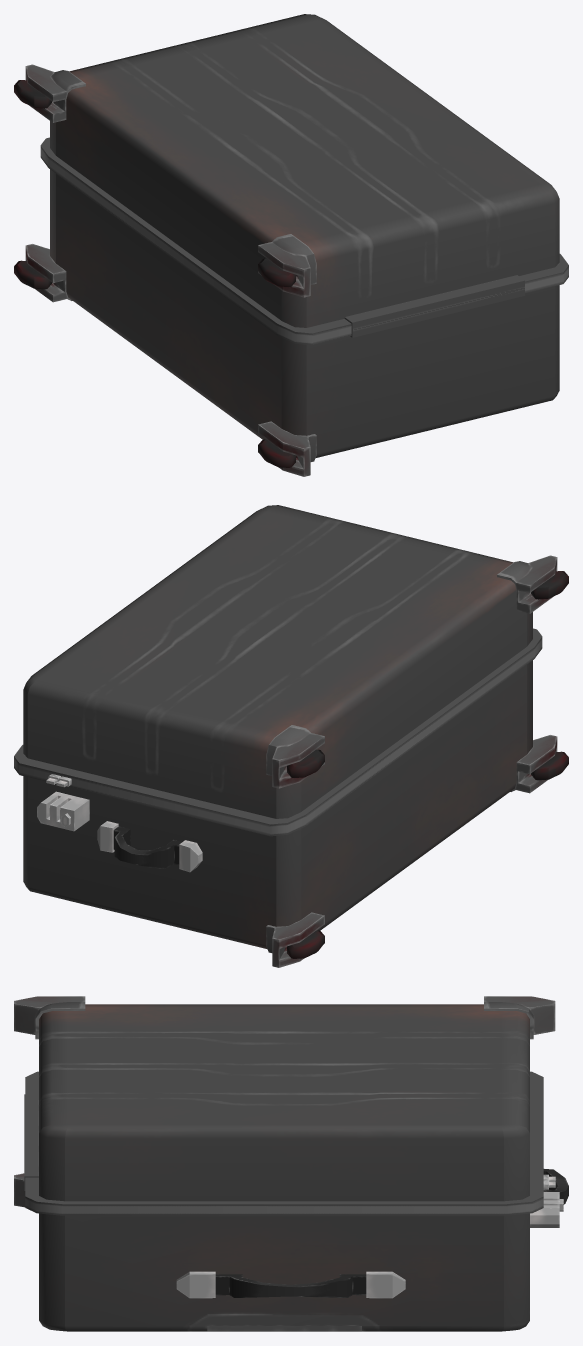
File: suitcase.dae
3 views of the same model, one above another, from view 1: azimuth 30°, elevation 25°; view 2: azimuth 150°, elevation 25°; view 3: azimuth 270°, elevation 25° (orthographic). The views are drawn at different scales.
Parts seen in each view (by area): view 1: node0; view 2: node0; view 3: node0.
Part boxes in pixels (box(x1,y1,x2,y2)): node0: box(14, 14, 568, 476); node0: box(14, 505, 568, 967); node0: box(14, 996, 568, 1331).
Bounding box in the file's own units: 0.37 × 0.58 × 0.24.
1 material, 1 textured.
